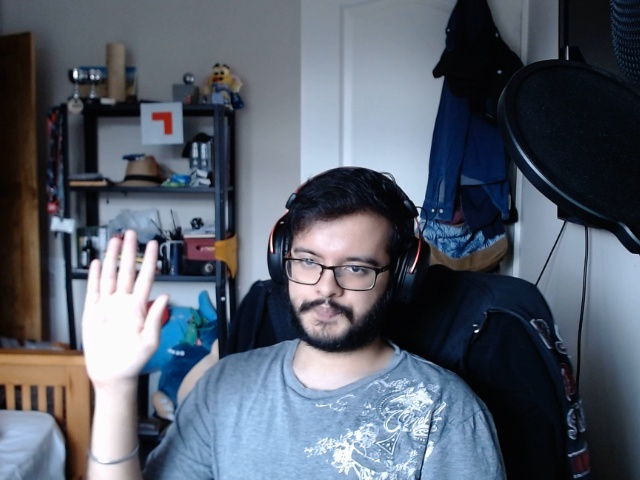Hello: (74, 226, 172, 391)
